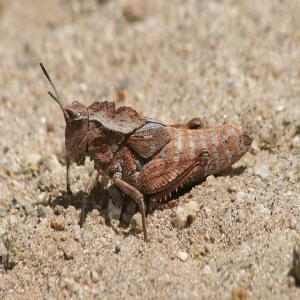locust: (44, 66, 288, 248)
